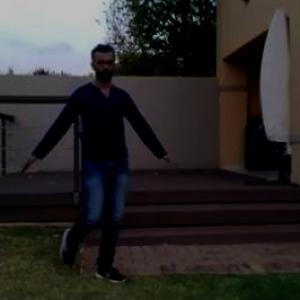land: (21, 42, 168, 282)
